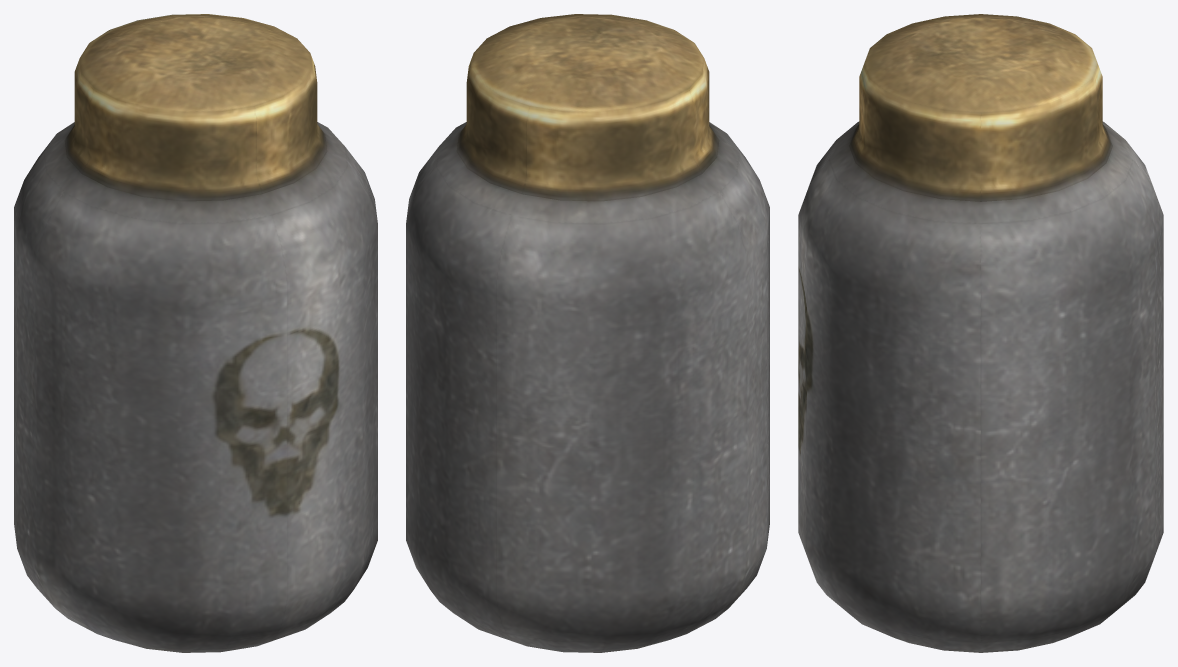
Rendered from item_mm9_10246.glb.
The picture shows the model from 3 angles, left to right: view 1: azimuth 30°, elevation 25°; view 2: azimuth 150°, elevation 25°; view 3: azimuth 270°, elevation 25°; orthographic projection.
Parts seen in each view (by area): view 1: d10246; view 2: d10246; view 3: d10246.
Boxes of the visible parts, box(x1,y1,x2,y2) form: d10246: box(14, 14, 377, 652); d10246: box(406, 14, 769, 652); d10246: box(798, 14, 1163, 652).
Size of the model in its own units: 55.4 by 93.87 by 55.4.
1 material, 1 textured.
